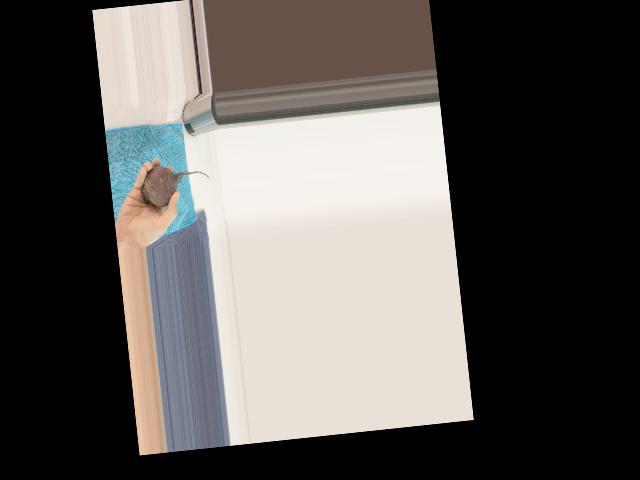beet: (137, 159, 211, 209)
